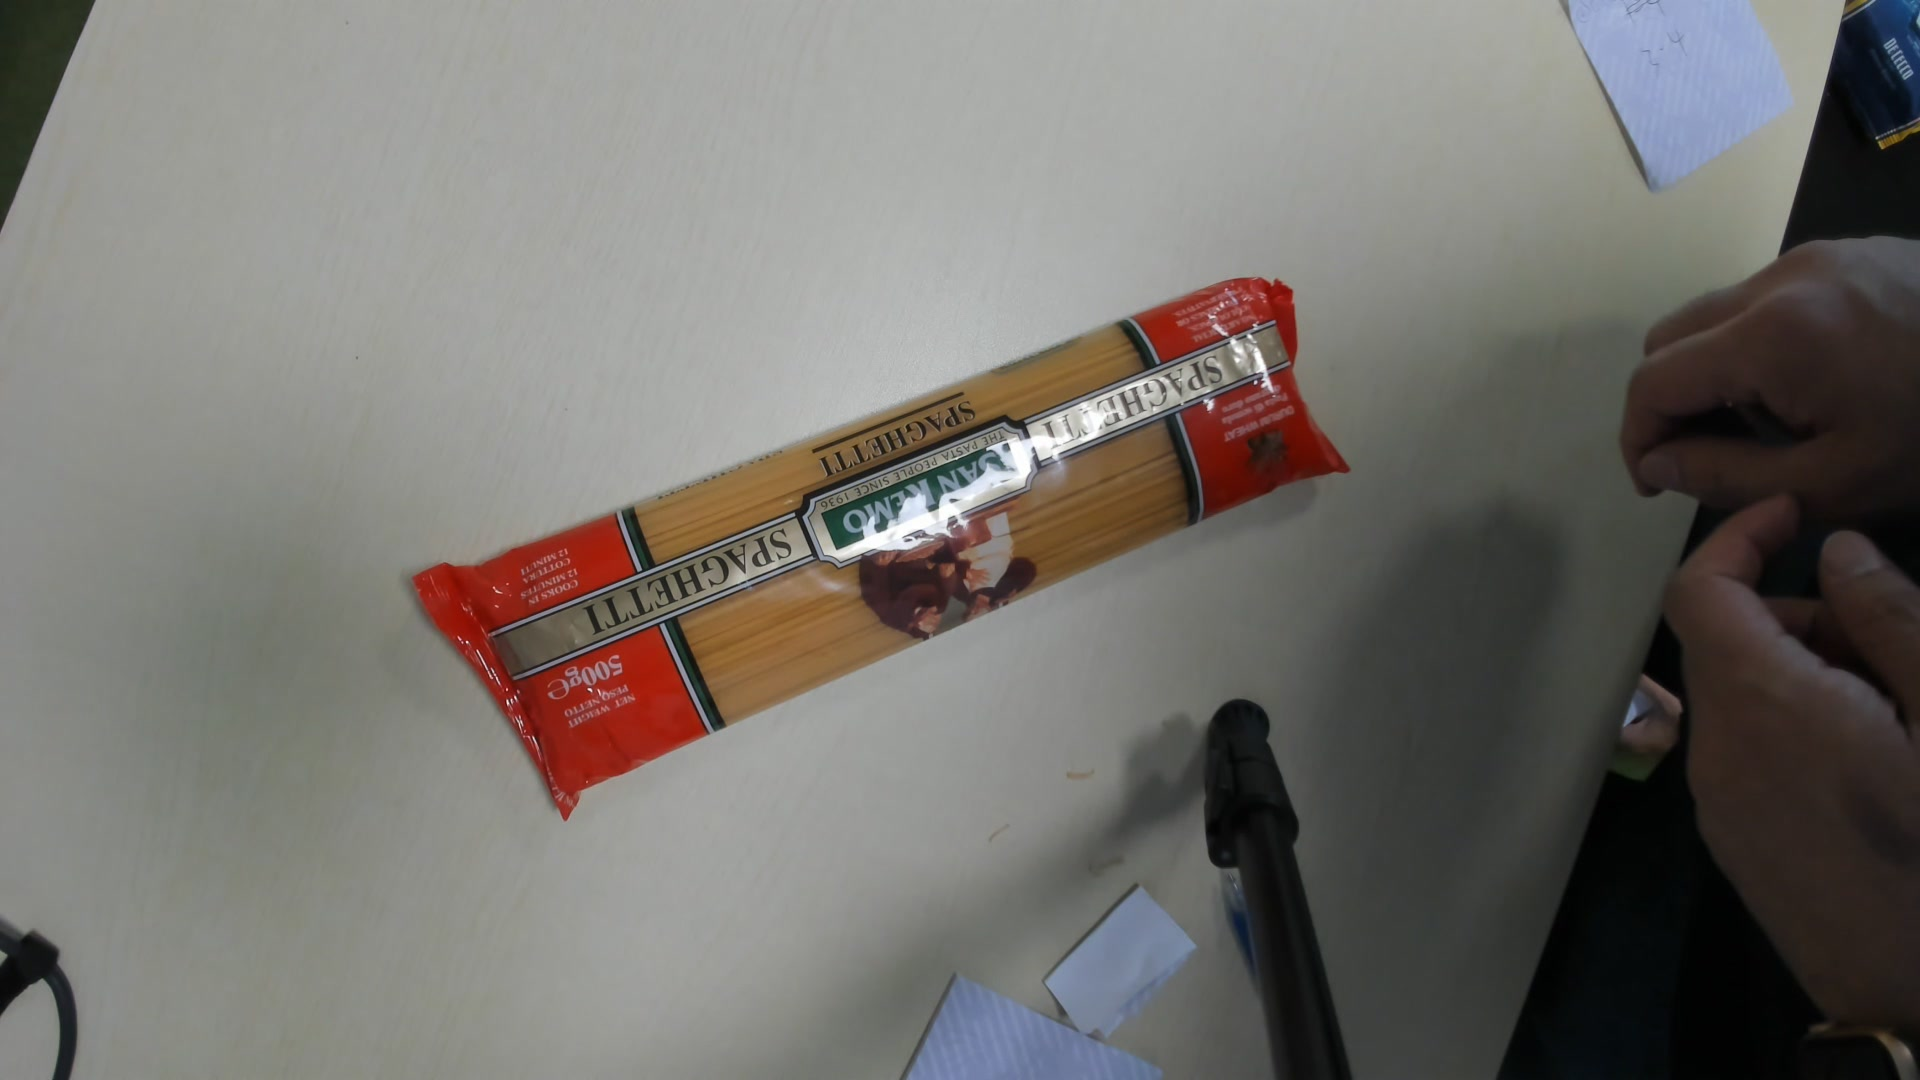Pasta_500-599g_Halal_NonHealthy: (407, 278, 1353, 827)
